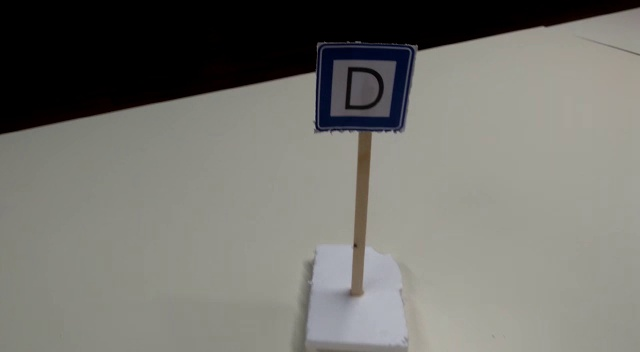durak: (315, 40, 410, 134)
